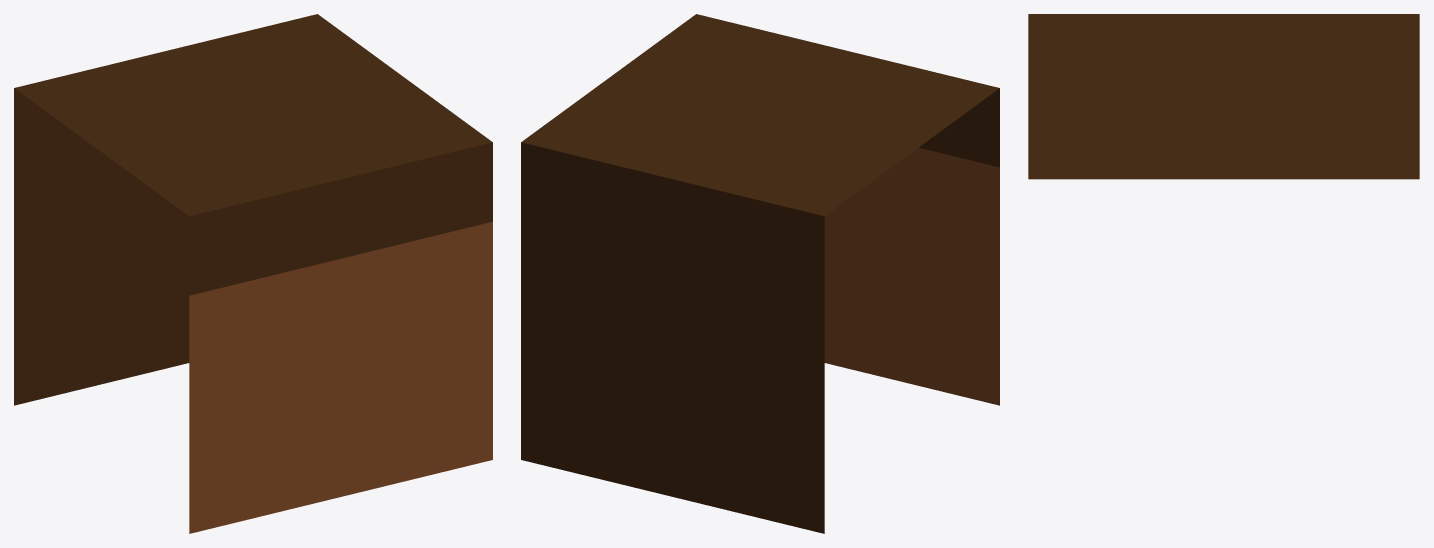
Rendered from v03_brick_half.fbx.
3 renders of one model, left to right at view 1: azimuth 30°, elevation 25°; view 2: azimuth 150°, elevation 25°; view 3: azimuth 270°, elevation 25°, orthographic. The views are drawn at different scales.
Parts seen in each view (by area): view 1: 立方体.001; view 2: 立方体.001; view 3: 立方体.001.
Boxes of the visible parts, x1=… form: 立方体.001: x1=14, y1=14, x2=492, y2=533; 立方体.001: x1=521, y1=14, x2=999, y2=533; 立方体.001: x1=1028, y1=14, x2=1419, y2=179.
Size of the model in its own units: 200 by 200 by 200.
